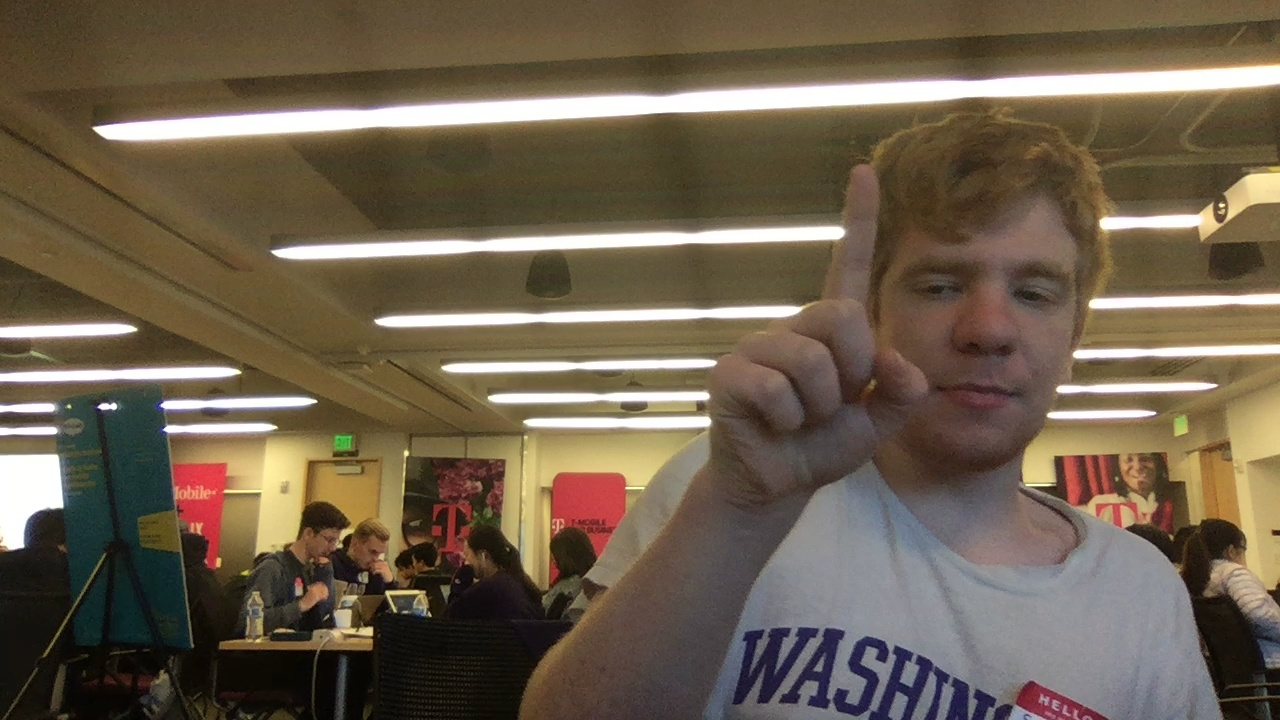index: (704, 161, 924, 510)
